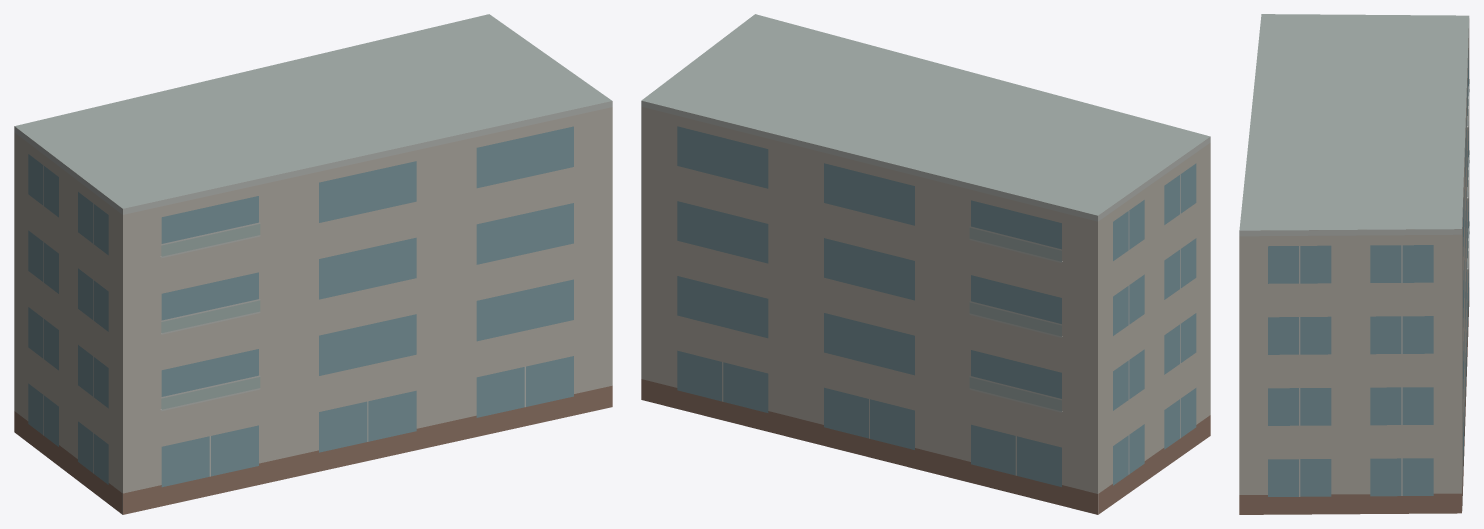
The model's file is residential-683cf29d-68b4-4660-a559-7e1cc717071c.glb.
The picture shows the model from 3 angles, left to right: view 1: azimuth 30°, elevation 25°; view 2: azimuth 150°, elevation 25°; view 3: azimuth 270°, elevation 25°; orthographic projection. The views are drawn at different scales.
Parts seen in each view (by area): view 1: residential-683cf29d-68b4-4660-a559-7e1cc717071c.tmp; view 2: residential-683cf29d-68b4-4660-a559-7e1cc717071c.tmp; view 3: residential-683cf29d-68b4-4660-a559-7e1cc717071c.tmp.
Boxes of the visible parts, left/top/right/bottom form: residential-683cf29d-68b4-4660-a559-7e1cc717071c.tmp: left=14, top=14, right=612, bottom=514; residential-683cf29d-68b4-4660-a559-7e1cc717071c.tmp: left=641, top=14, right=1210, bottom=514; residential-683cf29d-68b4-4660-a559-7e1cc717071c.tmp: left=1239, top=14, right=1469, bottom=514.
Bounding box in the file's own units: 19.94 × 12.2 × 8.96.
